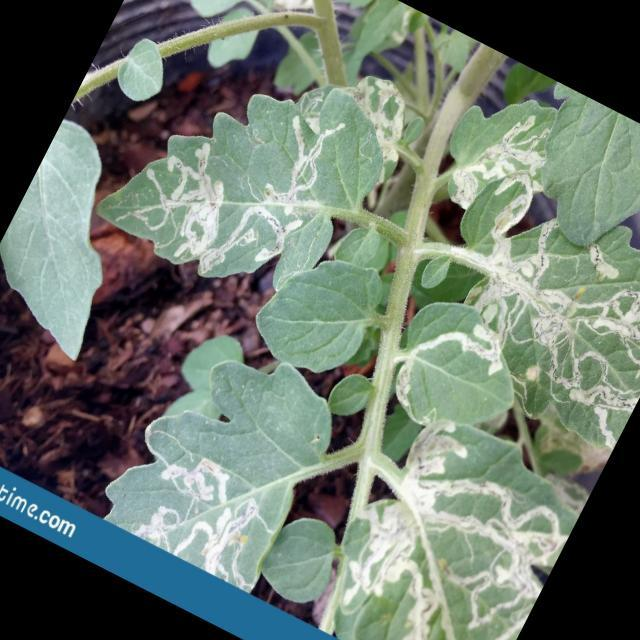Tomato healthy leaf: (0, 116, 173, 365), (240, 228, 398, 394)
Tomato target spot leaf: (86, 17, 406, 332), (394, 150, 640, 459), (300, 388, 597, 640), (92, 312, 355, 594), (369, 283, 546, 462), (422, 69, 582, 241)
